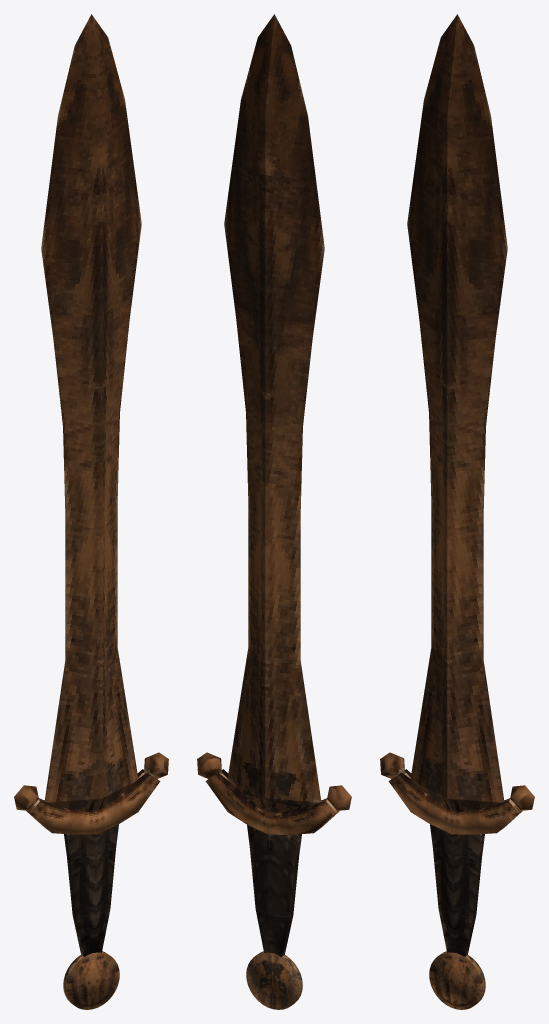
Rendered from sword_psx.glb.
3 views of the same model, side by side, from view 1: azimuth 30°, elevation 25°; view 2: azimuth 150°, elevation 25°; view 3: azimuth 330°, elevation 25° (orthographic).
Parts seen in each view (by area): view 1: Sword, Hilt; view 2: Sword, Hilt; view 3: Sword, Hilt.
Boxes of the visible parts, bbox=[...] form: Sword: bbox=[41, 14, 141, 812]; Hilt: bbox=[14, 752, 168, 1009]; Sword: bbox=[224, 14, 324, 812]; Hilt: bbox=[197, 752, 351, 1009]; Sword: bbox=[407, 14, 507, 812]; Hilt: bbox=[380, 752, 534, 1009].
Bounding box in the file's own units: 1.13 × 6.95 × 0.2456.
1 material, 1 textured.
